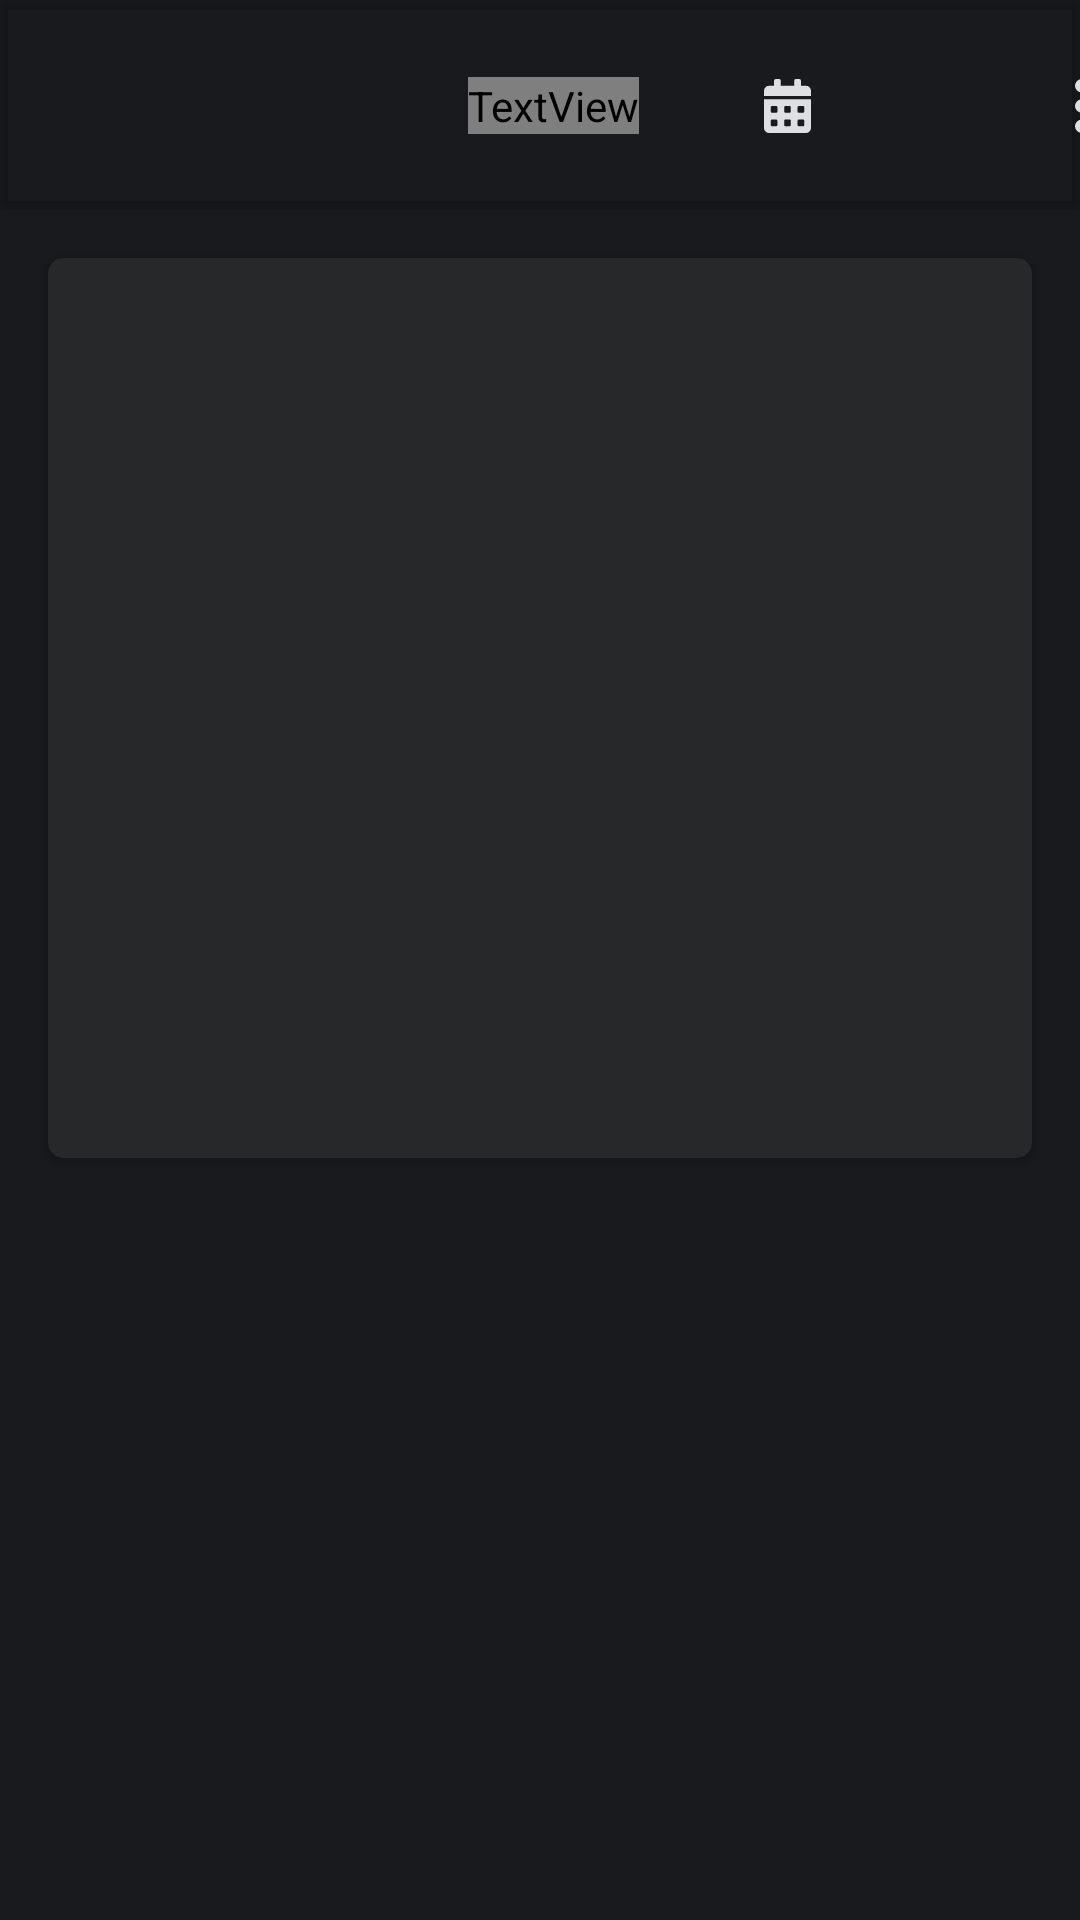

Icons on this 1080 × 1920 Android screen, each with its box as (x1, y1, x2, y2):
Calendar button: (764, 79, 811, 133)
